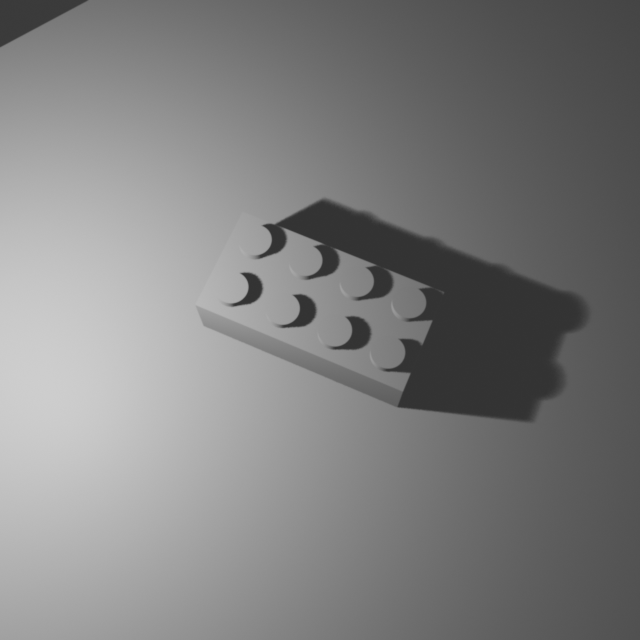lego_2x4: (194, 207, 446, 407)
